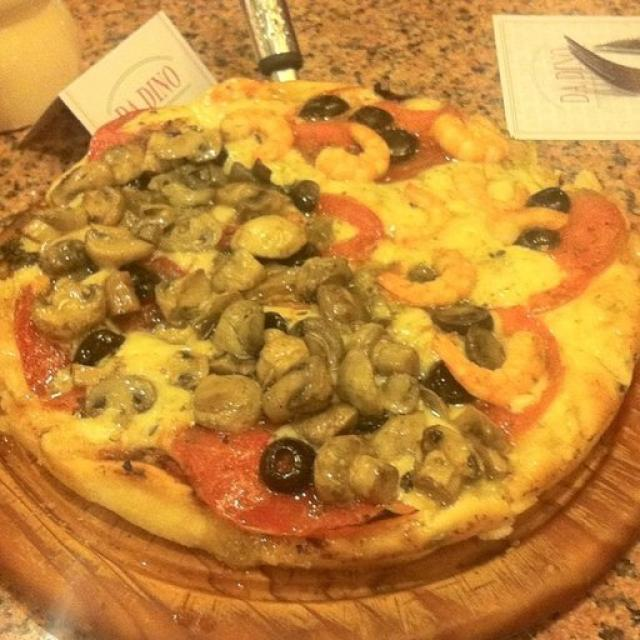Ham: (174, 377, 396, 527), (20, 247, 206, 420), (425, 294, 564, 431), (213, 180, 378, 262), (290, 93, 447, 179)
Mushrooms: (310, 430, 406, 510), (25, 268, 104, 342), (225, 212, 320, 262), (336, 342, 396, 420), (138, 115, 230, 163), (92, 373, 155, 439), (455, 402, 511, 476), (418, 421, 477, 491), (194, 370, 255, 435), (296, 260, 356, 322), (44, 190, 116, 240), (85, 256, 147, 312), (266, 369, 336, 418), (82, 214, 156, 260), (218, 298, 268, 364), (153, 203, 221, 251), (209, 240, 274, 290), (244, 328, 300, 385), (356, 322, 416, 374), (153, 268, 210, 320), (102, 129, 157, 180), (55, 158, 115, 202), (175, 160, 268, 188), (350, 261, 394, 320), (151, 174, 217, 208), (200, 288, 243, 340), (110, 179, 154, 218), (290, 172, 322, 210), (131, 216, 169, 240)
Olives: (261, 436, 317, 492), (464, 324, 507, 364), (297, 94, 345, 118), (85, 329, 118, 362), (534, 180, 572, 208), (524, 224, 558, 254), (379, 132, 411, 158), (361, 106, 392, 125)
Pizza: (0, 77, 640, 568)
